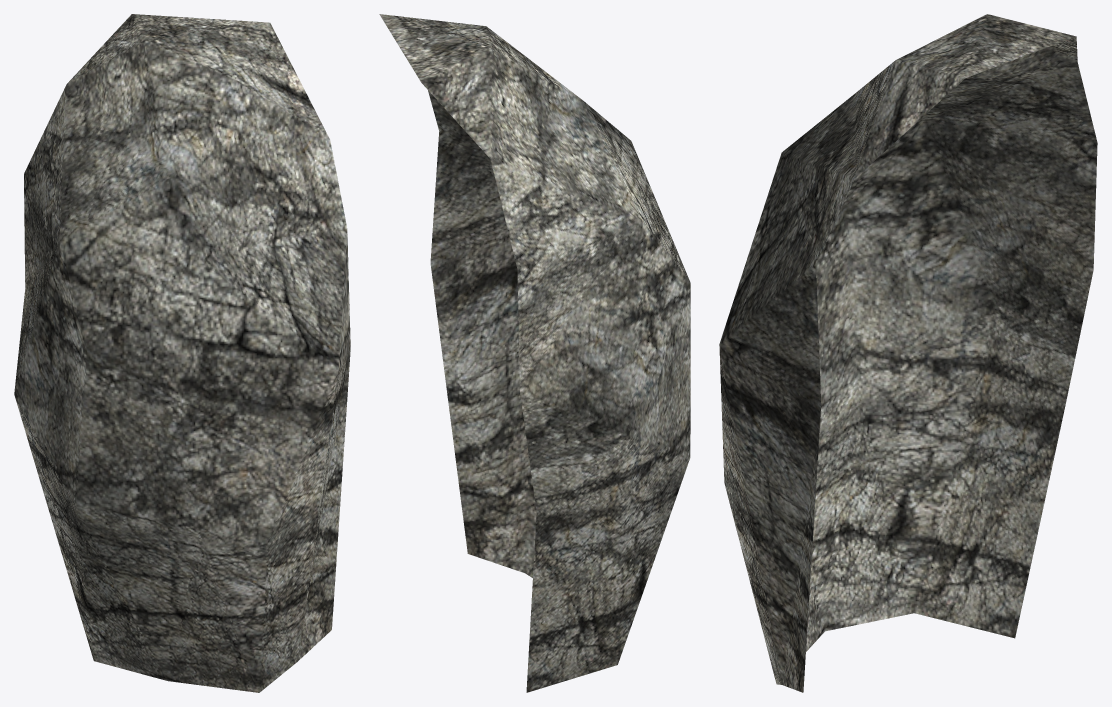
The model's file is Rock-1.fbx.
3 renders of one model, left to right at view 1: azimuth 30°, elevation 25°; view 2: azimuth 150°, elevation 25°; view 3: azimuth 270°, elevation 25°, orthographic. The views are drawn at different scales.
Parts seen in each view (by area): view 1: pCube1; view 2: pCube1; view 3: pCube1.
Part boxes in pixels (x1,y1,x2,y2): pCube1: [14, 14, 350, 692]; pCube1: [379, 14, 690, 692]; pCube1: [719, 14, 1097, 692].
Bounding box in the file's own units: 1.9 × 4.12 × 2.14.
1 material, 1 textured.
